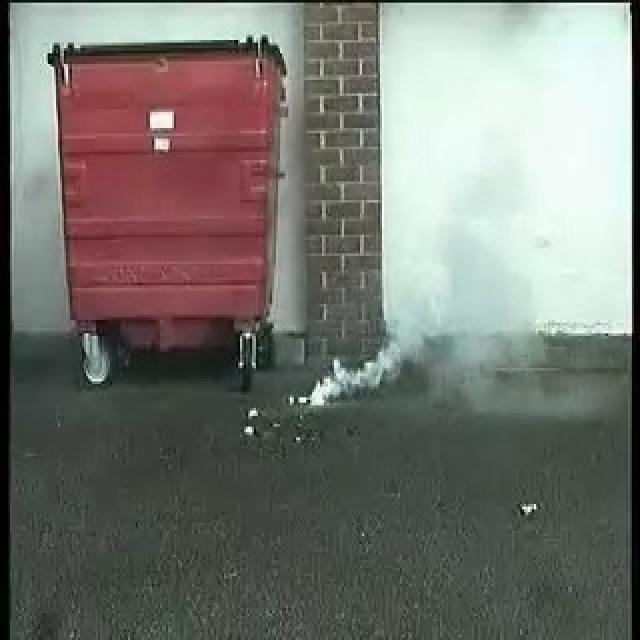smoke: (295, 275, 455, 409)
